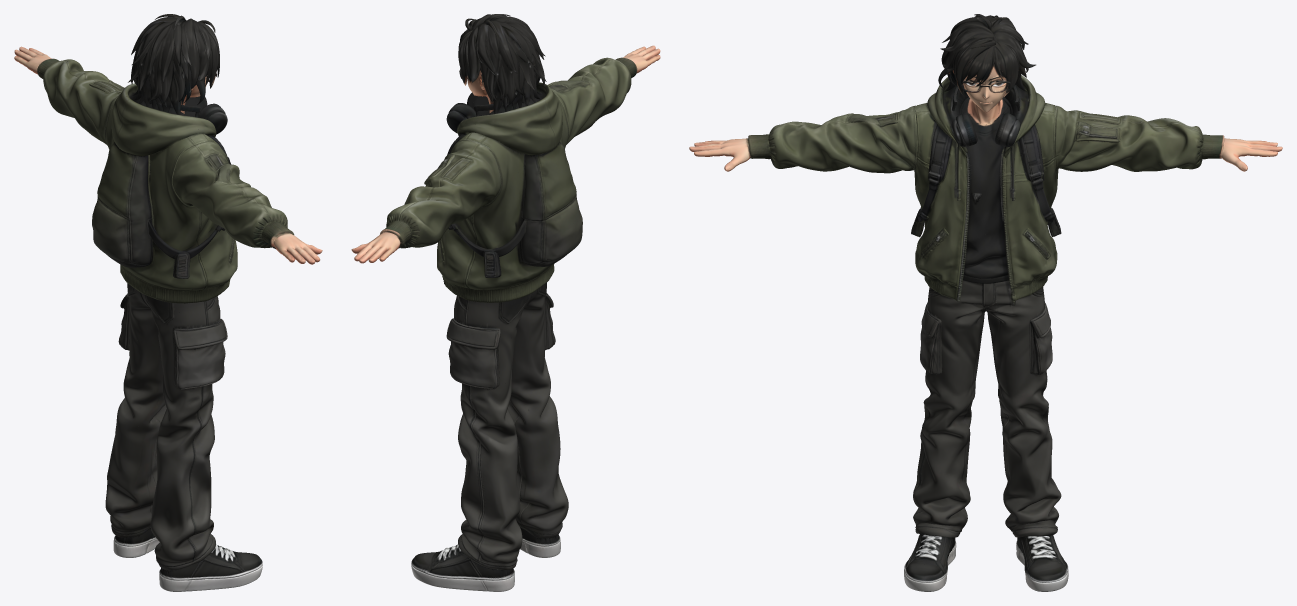
Rendered from Personaje.fbx.
The picture shows the model from 3 angles, left to right: view 1: azimuth 30°, elevation 25°; view 2: azimuth 150°, elevation 25°; view 3: azimuth 270°, elevation 25°; orthographic projection.
Parts seen in each view (by area): view 1: tripo_node_0e258f46-e3b5-4869-86bf-dd1ea44a48e0; view 2: tripo_node_0e258f46-e3b5-4869-86bf-dd1ea44a48e0; view 3: tripo_node_0e258f46-e3b5-4869-86bf-dd1ea44a48e0.
Boxes of the visible parts, x1=… form: tripo_node_0e258f46-e3b5-4869-86bf-dd1ea44a48e0: x1=14, y1=14, x2=322, y2=591; tripo_node_0e258f46-e3b5-4869-86bf-dd1ea44a48e0: x1=351, y1=14, x2=660, y2=591; tripo_node_0e258f46-e3b5-4869-86bf-dd1ea44a48e0: x1=689, y1=14, x2=1282, y2=591.
Bounding box in the file's own units: 24.63 × 98.11 × 95.35.
Materials: 1 (1 with a texture image).
